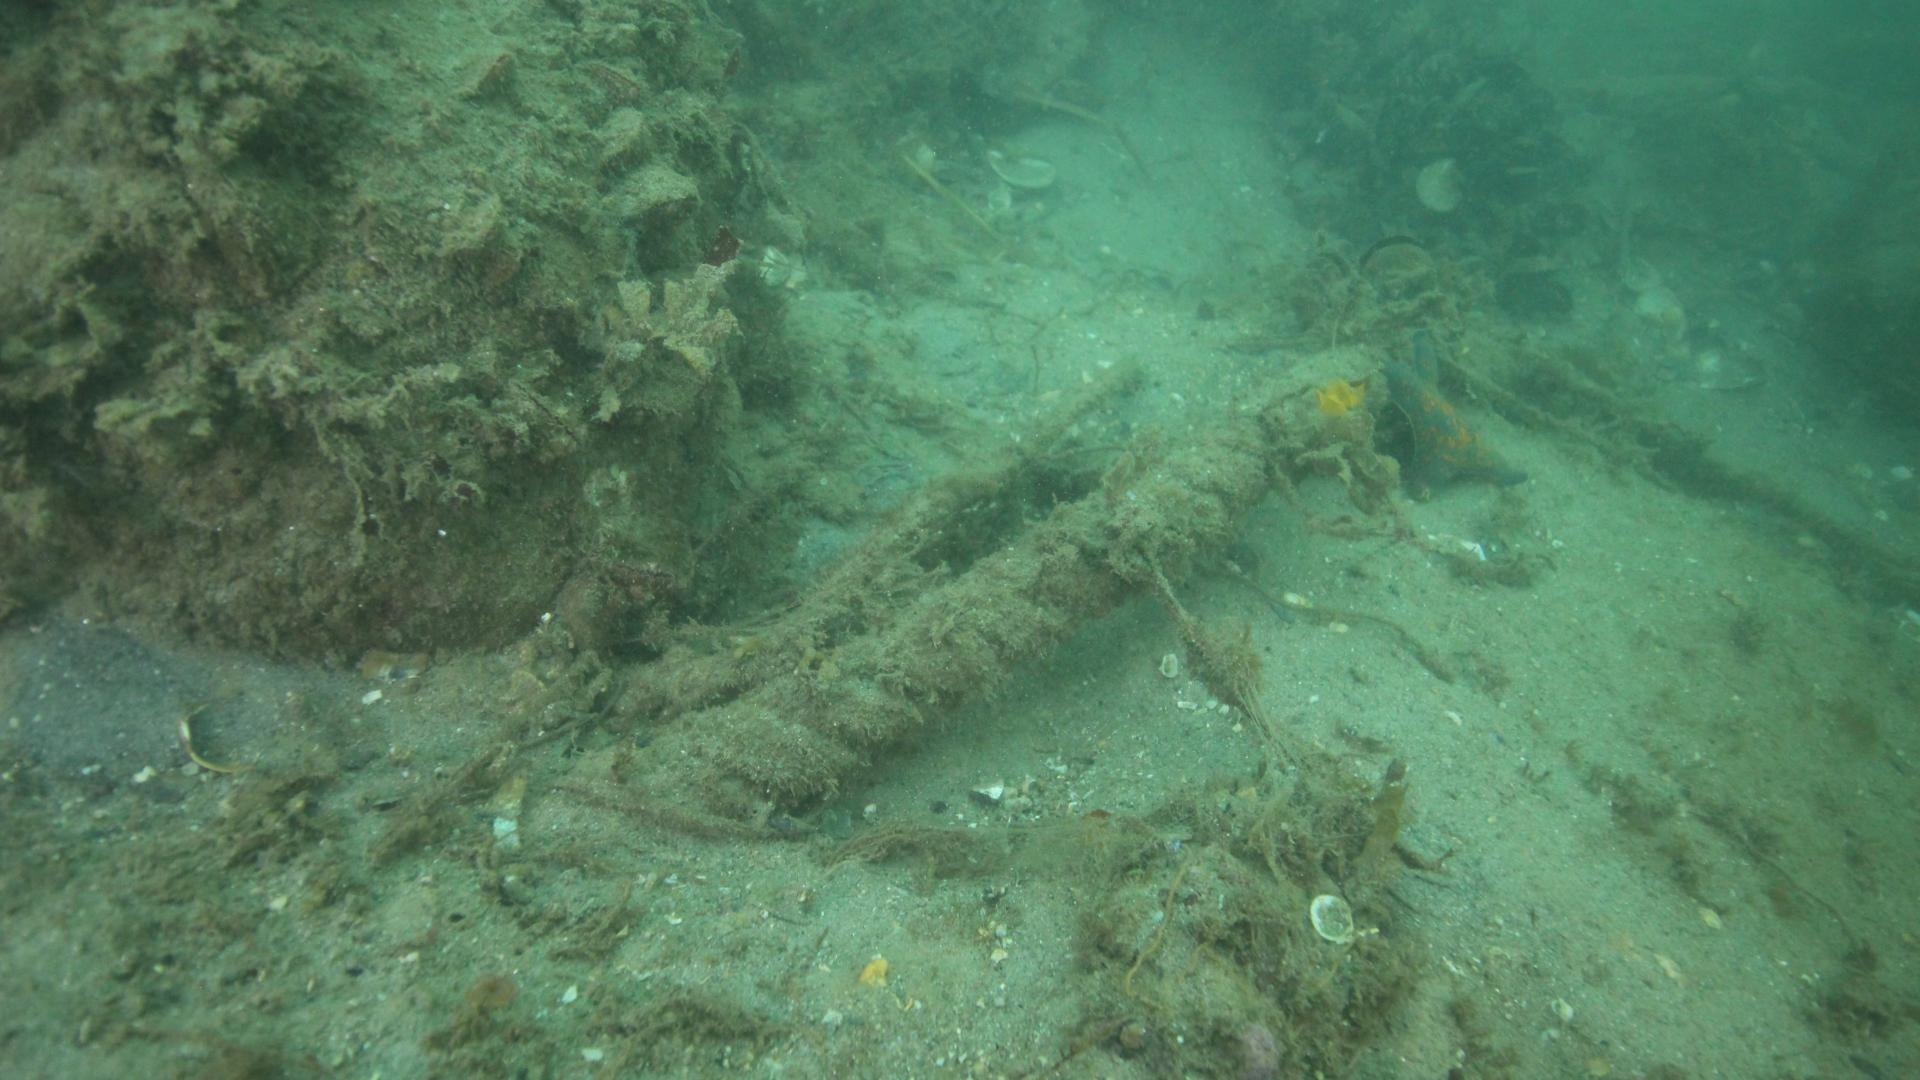rope: (622, 343, 1393, 833)
